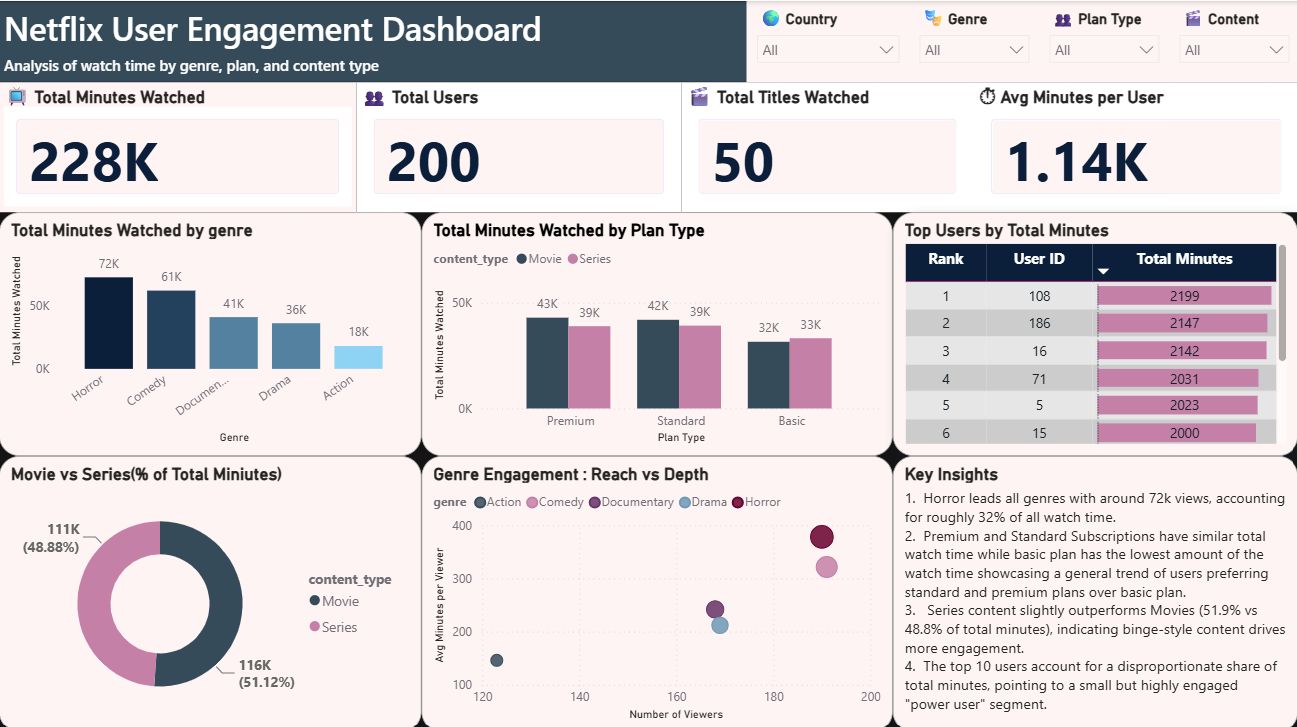

This screenshot's page, from the dashboard's own definition file:
{"tool":"powerbi","page":{"name":"Page 1","canvas":[1280,720],"ordinal":0},"visuals":[{"type":"clusteredColumnChart","title":" Total Minutes Watched by genre","fields":{"Y":["watch_history.Total Minutes Watched"],"Category":["content.genre"]},"box":[0,208,416,240],"z":0},{"type":"donutChart","title":"Movie vs Series(% of Total  Miniutes)","fields":{"Category":["content.content_type"],"Y":["watch_history.Total Minutes Watched"]},"box":[0,448,416,272],"z":1000},{"type":"shape","box":[0,0,1280,80],"z":3000},{"type":"textbox","box":[0,0,576,64],"z":4000},{"type":"cardVisual","title":"📺 Total Minutes Watched","fields":{"Data":["watch_history.Total Minutes Watched"]},"box":[0,80,352,128],"z":5000},{"type":"textbox","box":[0,48,400,32],"z":6000},{"type":"actionButton","box":[0,0,100,40],"z":7000},{"type":"cardVisual","title":"👥 Total Users","fields":{"Data":["users.Total Users"]},"box":[352,80,320,128],"z":8000},{"type":"cardVisual","title":"🎬 Total Titles Watched","fields":{"Data":["watch_history.Total Titles Watched"]},"box":[672,80,288,128],"z":9000},{"type":"cardVisual","title":"⏱ Avg Minutes per User","fields":{"Data":["watch_history.Avg Minutes per User"]},"box":[960,80,320,128],"z":10000},{"type":"clusteredColumnChart","title":" Total Minutes Watched by Plan Type","fields":{"Category":["users.plan_type"],"Y":["watch_history.📺 Total Minutes Watched"],"Series":["content.content_type"]},"box":[416,208,464,240],"z":11000},{"type":"tableEx","title":"Top Users by Total Minutes","fields":{"Values":["watch_history.Rank by Minutes","users.user_id","watch_history.📺 Total Minutes Watched"]},"box":[880,208,400,240],"z":12000},{"type":"scatterChart","title":"Genre Engagement : Reach vs Depth","fields":{"Series":["content.genre"],"X":["watch_history.Users per Genre"],"Y":["watch_history.Avg Minutes per User (by Genre)"],"Size":["watch_history.📺 Total Minutes Watched"]},"box":[416,448,464,272],"z":12001},{"type":"slicer","fields":{"Values":["users.country"]},"box":[736,0,160,80],"z":12002},{"type":"slicer","fields":{"Values":["content.genre"]},"box":[896,0,128,80],"z":12003},{"type":"slicer","fields":{"Values":["users.plan_type"]},"box":[1024,0,128,80],"z":12005},{"type":"slicer","fields":{"Values":["content.content_type"]},"box":[1152,0,128,80],"z":12006},{"type":"textbox","title":"Key Insights","box":[880,448,400,272],"z":12007}]}

Visuals, with their boxes in screenshot pixels (x1, y1, x2, y2), scaled from the page's 1280x720 canvas onto the 1297x727 screenshot:
" Total Minutes Watched by genre" clusteredColumnChart: <region>0, 210, 422, 452</region>
"Movie vs Series(% of Total  Miniutes)" donutChart: <region>0, 452, 422, 726</region>
shape: <region>0, 0, 1296, 81</region>
textbox: <region>0, 0, 584, 65</region>
"📺 Total Minutes Watched" cardVisual: <region>0, 81, 357, 210</region>
textbox: <region>0, 48, 405, 81</region>
actionButton: <region>0, 0, 101, 40</region>
"👥 Total Users" cardVisual: <region>357, 81, 681, 210</region>
"🎬 Total Titles Watched" cardVisual: <region>681, 81, 973, 210</region>
"⏱ Avg Minutes per User" cardVisual: <region>973, 81, 1296, 210</region>
" Total Minutes Watched by Plan Type" clusteredColumnChart: <region>422, 210, 892, 452</region>
"Top Users by Total Minutes" tableEx: <region>892, 210, 1296, 452</region>
"Genre Engagement : Reach vs Depth" scatterChart: <region>422, 452, 892, 726</region>
slicer - users.country: <region>746, 0, 908, 81</region>
slicer - content.genre: <region>908, 0, 1038, 81</region>
slicer - users.plan_type: <region>1038, 0, 1167, 81</region>
slicer - content.content_type: <region>1167, 0, 1296, 81</region>
"Key Insights" textbox: <region>892, 452, 1296, 726</region>
